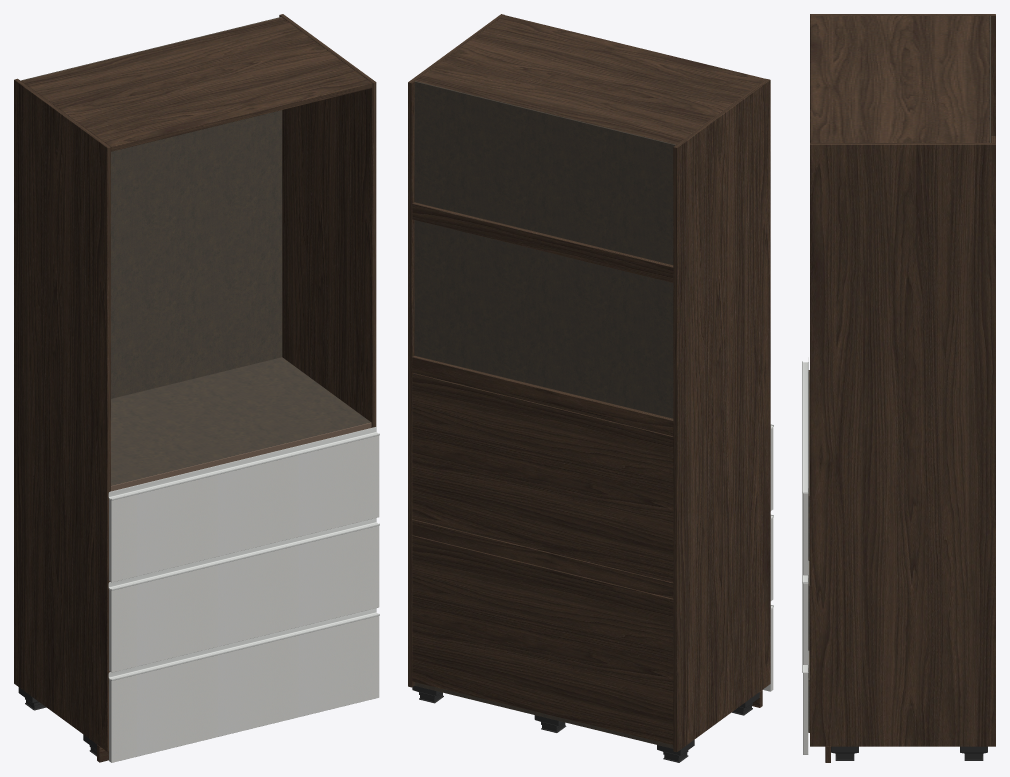
The picture shows the model from 3 angles, left to right: view 1: azimuth 30°, elevation 25°; view 2: azimuth 150°, elevation 25°; view 3: azimuth 270°, elevation 25°; orthographic projection.
Visible parts, largest first — view 1: HK1001193; view 2: HK1001193; view 3: HK1001193.
Part boxes in pixels (bbox=[...]): HK1001193: bbox=[14, 14, 379, 762]; HK1001193: bbox=[408, 14, 773, 762]; HK1001193: bbox=[802, 14, 995, 762].
Bounding box in the file's own units: 1 × 2.2 × 0.6256.
8 materials, 7 textured.
